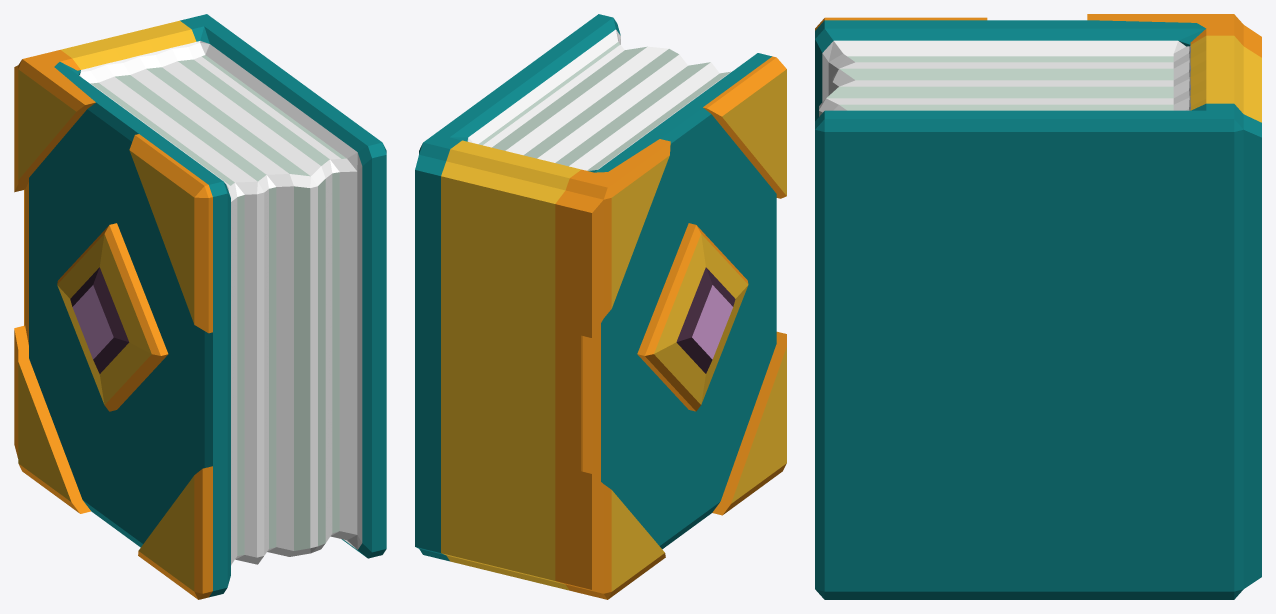
Rendered from G477Proj2Jay'sSpecialBook.fbx.
The picture shows the model from 3 angles, left to right: view 1: azimuth 30°, elevation 25°; view 2: azimuth 150°, elevation 25°; view 3: azimuth 270°, elevation 25°; orthographic projection. The views are drawn at different scales.
Visible parts, largest first — view 1: JayBookOpen, JayBookOpen.001, Cube.008; view 2: JayBookOpen.001, JayBookOpen, Cube.008; view 3: JayBookOpen, JayBookOpen.001.
Part boxes in pixels (<box>): JayBookOpen: <box>61,14,386,564</box>; JayBookOpen.001: <box>14,50,230,599</box>; Cube.008: <box>57,223,168,411</box>; JayBookOpen.001: <box>555,53,786,599</box>; JayBookOpen: <box>415,14,731,590</box>; Cube.008: <box>637,223,748,411</box>; JayBookOpen: <box>815,35,1261,599</box>; JayBookOpen.001: <box>815,14,1261,120</box>.
Size of the model in its own units: 13.57 by 26 by 21.89.
